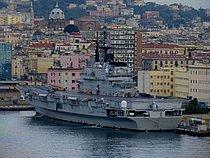MIL_Ship: (14, 43, 187, 132)
